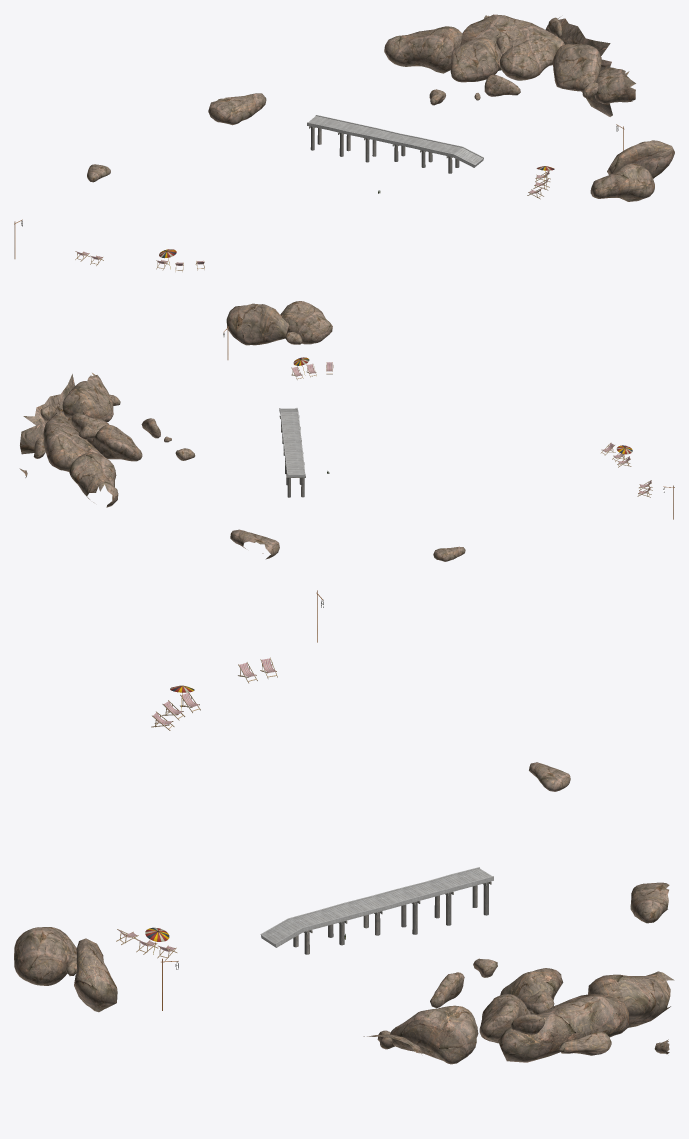
The model's file is beach.glb.
3 renders of one model, top to bottom at view 1: azimuth 30°, elevation 25°; view 2: azimuth 150°, elevation 25°; view 3: azimuth 270°, elevation 25°, orthographic. The views are drawn at different scales.
Parts seen in each view (by area): view 1: beach_beach_002_rock, beach_beach_005_dock, beach_beach_003_sunbed; view 2: beach_beach_002_rock, beach_beach_005_dock, beach_beach_003_sunbed; view 3: beach_beach_002_rock, beach_beach_005_dock, beach_beach_003_sunbed.
Boxes of the visible parts, x1,y1,x2,y2 form: beach_beach_002_rock: [87, 14, 674, 201]; beach_beach_005_dock: [307, 115, 483, 173]; beach_beach_003_sunbed: [75, 170, 550, 271]; beach_beach_002_rock: [19, 301, 465, 561]; beach_beach_005_dock: [279, 408, 305, 497]; beach_beach_003_sunbed: [291, 362, 652, 497]; beach_beach_002_rock: [14, 762, 674, 1064]; beach_beach_005_dock: [260, 867, 493, 954]; beach_beach_003_sunbed: [116, 657, 277, 960].
Bounding box in the file's own units: 57.89 × 7.47 × 37.85.
6 materials, 6 textured.
